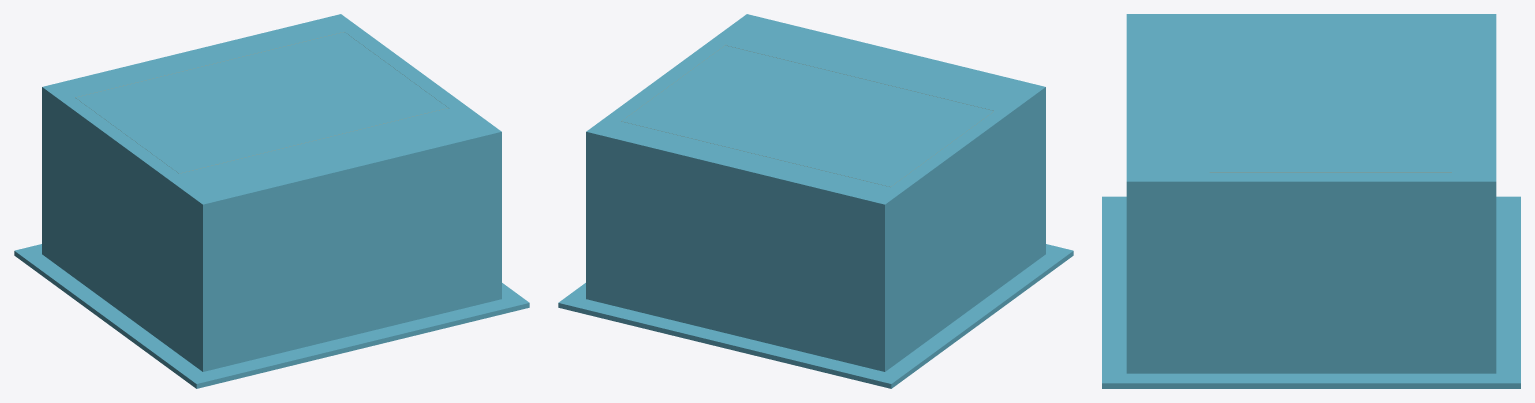
File: FloorPlan408.fbx
3 renders of one model, left to right at view 1: azimuth 30°, elevation 25°; view 2: azimuth 150°, elevation 25°; view 3: azimuth 270°, elevation 25°, orthographic. The views are drawn at different scales.
Visible parts, largest first — view 1: Cube.1433; view 2: Cube.1433; view 3: Cube.1433.
Part boxes in pixels (bbox=[...]): Cube.1433: bbox=[14, 14, 529, 388]; Cube.1433: bbox=[558, 14, 1073, 388]; Cube.1433: bbox=[1102, 14, 1520, 388].
Size of the model in its own units: 500 by 250 by 474.
